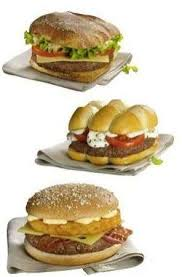hamburger: (23, 182, 135, 263), (25, 4, 121, 83), (71, 94, 165, 172)
